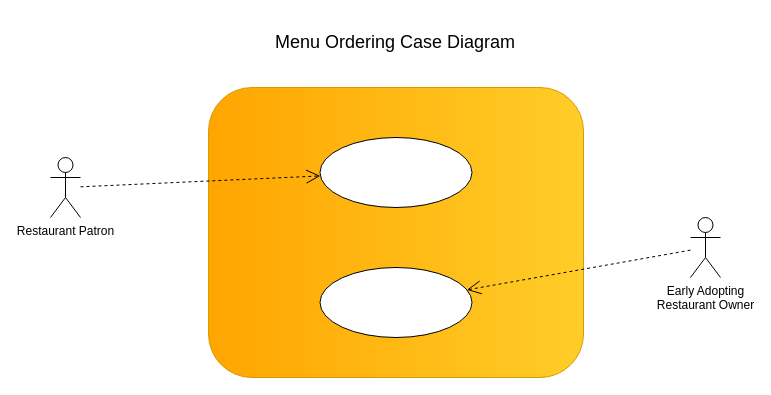
Image size: 771x395. Some labels were removed from this diagram. The centre of each missing label's shape, as x and y in pixels:
Place Order: pixel 395 172
Service Order: pixel 395 302
